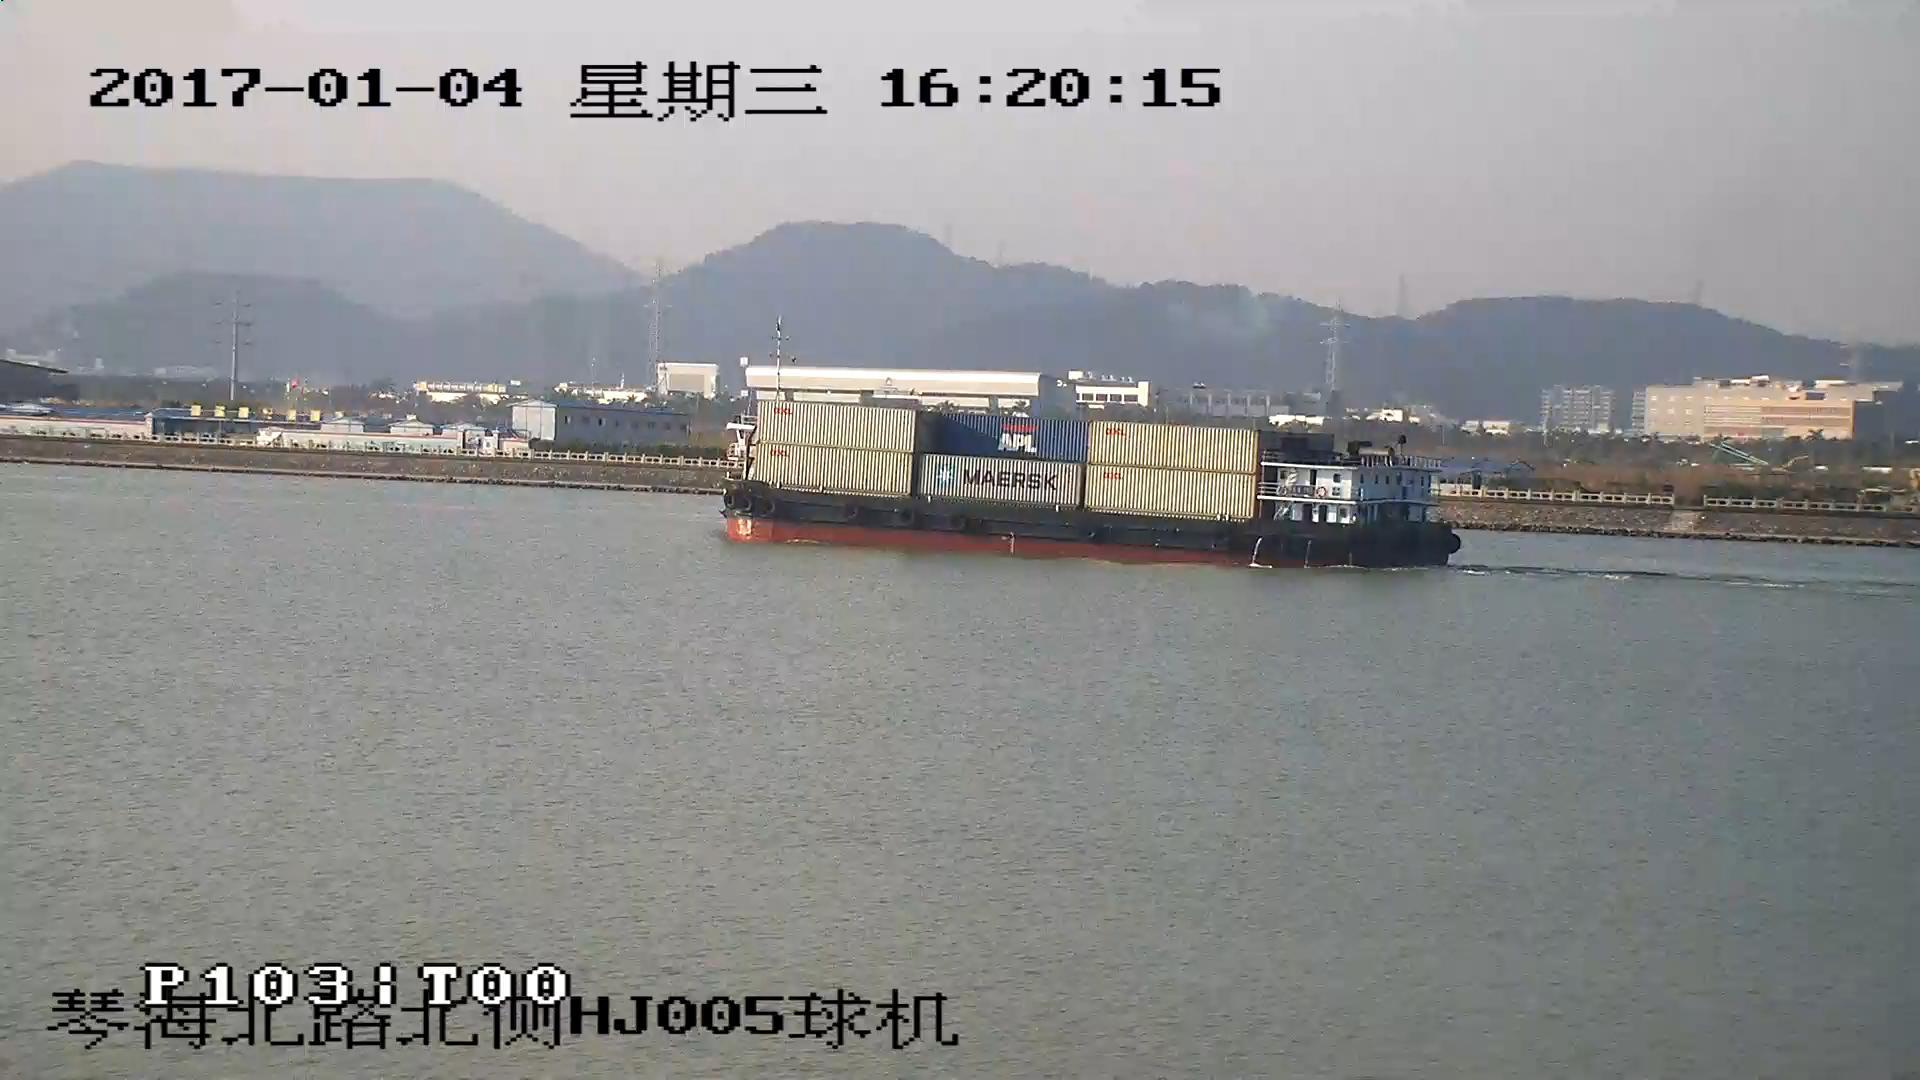Ship: (717, 400, 1460, 568)
